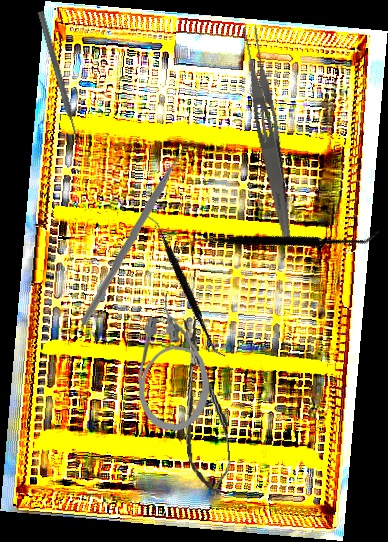Cannula: (136, 295, 213, 433)
Chopper: (75, 143, 208, 325)
Dressing Forceps: (237, 24, 302, 240)
Micro Scissor: (173, 313, 234, 497)
Pusher: (35, 10, 84, 149)
Spatula Surgical: (178, 149, 382, 330), (105, 213, 269, 359)
